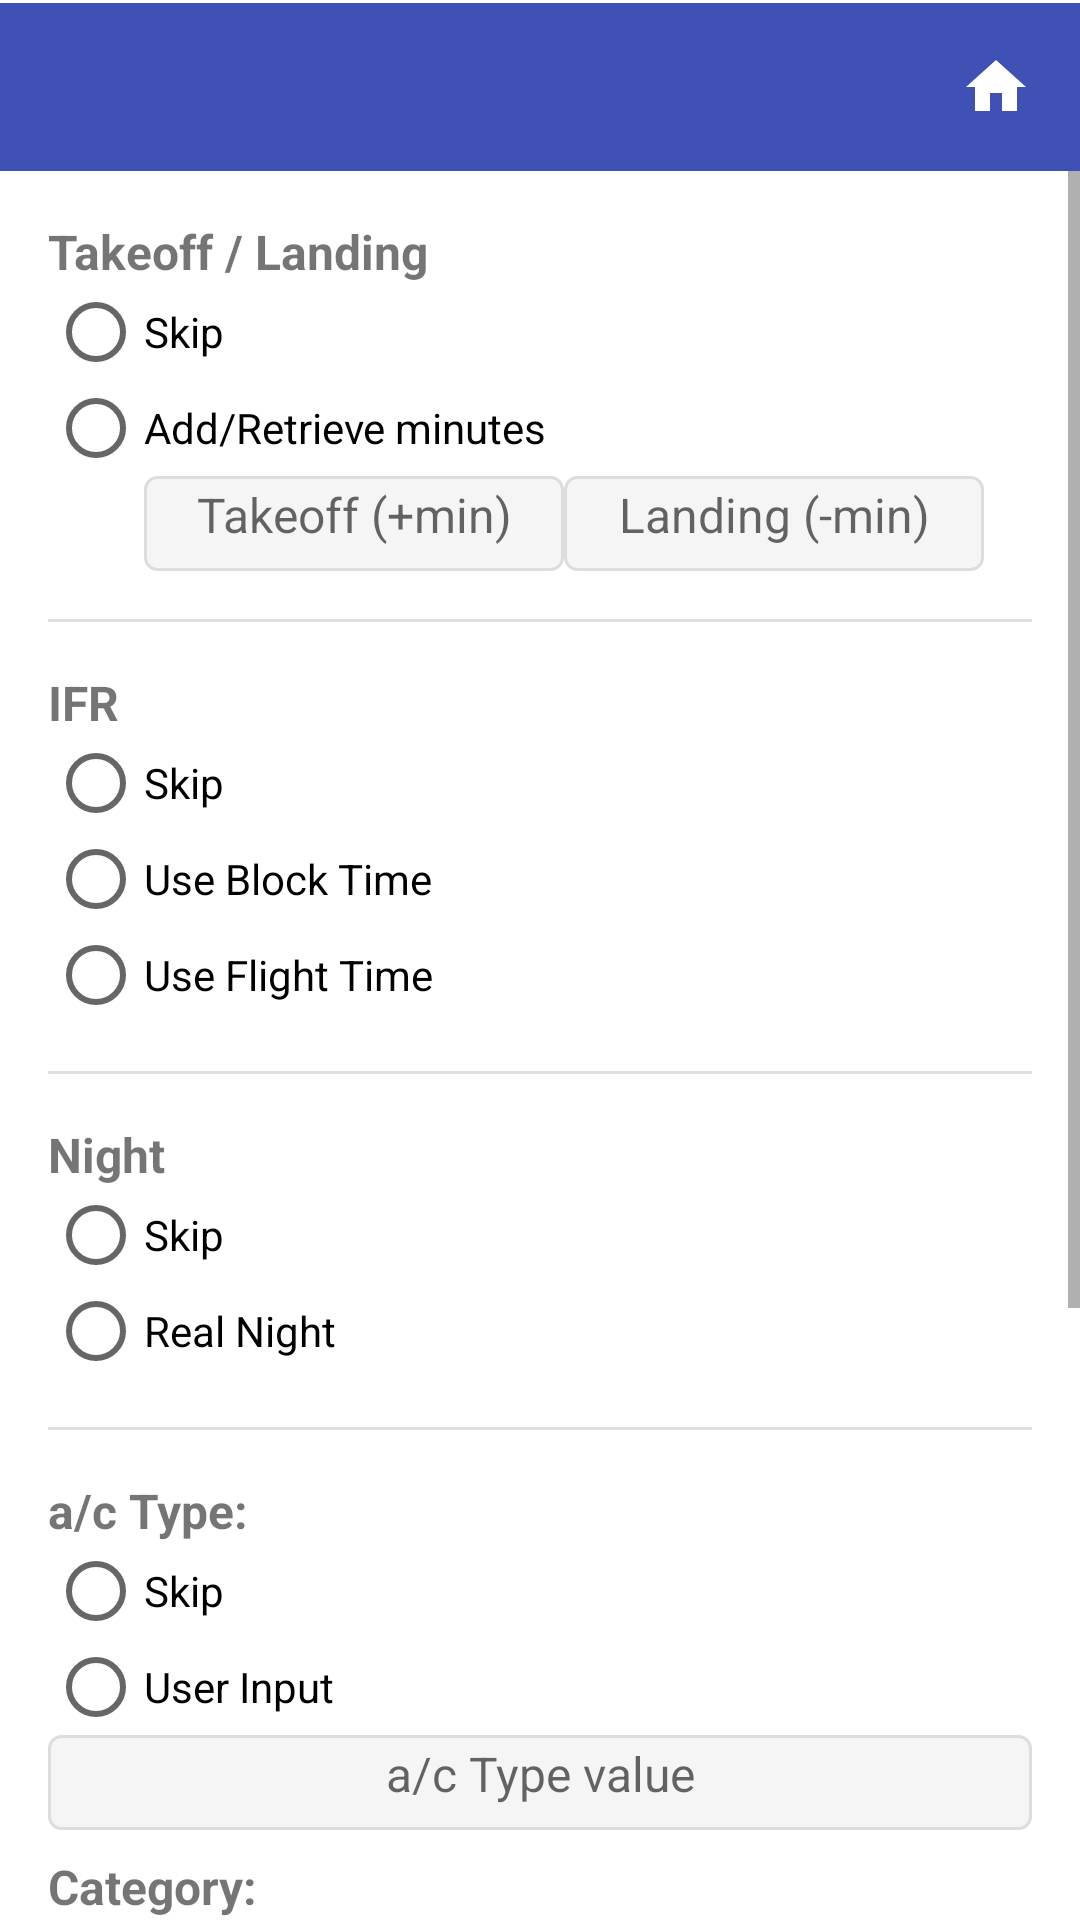

Icons on this 1080w x 1920h Android screen, each with its box as (x1, y1, x2, y2):
Home: (966, 60, 1026, 111)
